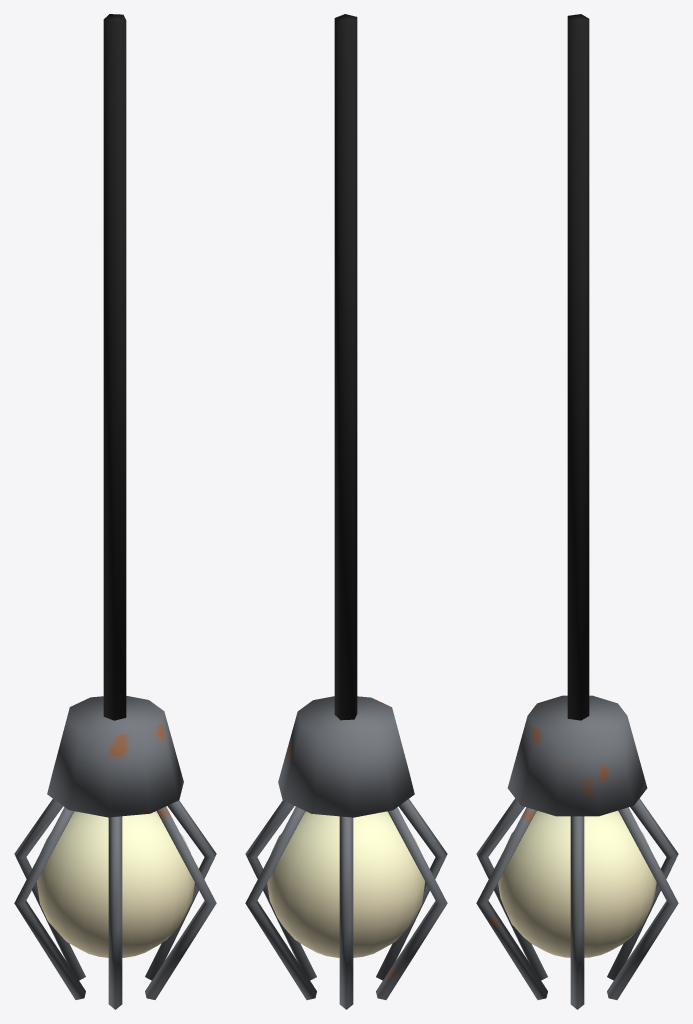
File: bunker_lamp.glb
3 renders of one model, left to right at view 1: azimuth 30°, elevation 25°; view 2: azimuth 150°, elevation 25°; view 3: azimuth 270°, elevation 25°, orthographic.
Parts seen in each view (by area): view 1: Lamp; view 2: Lamp; view 3: Lamp.
Part boxes in pixels (x1,y1,x2,y2): Lamp: (14, 14, 216, 1009); Lamp: (245, 14, 447, 1009); Lamp: (476, 14, 678, 1009).
Size of the model in its own units: 0.234 by 1.07 by 0.2026.
1 material, 1 textured.
